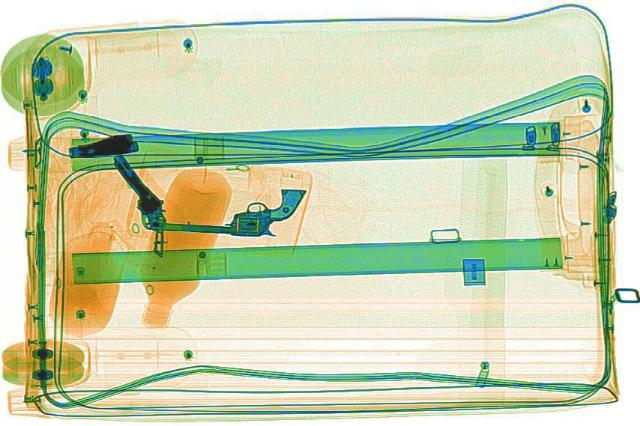Gun: (106, 148, 190, 258), (146, 181, 306, 235)
